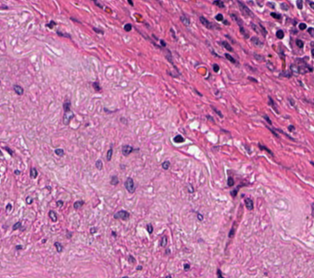nucleus: (230, 13, 248, 37), (238, 1, 251, 15), (199, 16, 214, 28), (124, 177, 135, 192), (268, 96, 278, 112), (258, 144, 272, 155), (114, 210, 129, 220), (63, 112, 74, 124), (211, 106, 222, 117), (122, 144, 133, 155), (231, 184, 241, 196), (56, 30, 70, 38), (225, 53, 236, 63), (63, 99, 71, 112), (13, 84, 23, 94), (180, 14, 189, 25), (221, 41, 232, 50), (48, 210, 57, 221), (106, 145, 112, 160), (251, 37, 262, 45), (244, 198, 252, 209), (2, 146, 12, 154), (54, 148, 64, 156), (110, 175, 118, 185), (73, 200, 83, 208), (30, 167, 37, 178), (94, 0, 103, 8), (123, 23, 132, 31), (251, 23, 259, 32), (259, 23, 265, 35), (92, 81, 100, 90), (173, 135, 183, 142), (95, 159, 102, 169), (213, 1, 224, 7), (92, 27, 103, 33), (161, 161, 169, 169), (12, 222, 20, 230), (271, 12, 280, 19), (46, 21, 55, 28), (146, 223, 152, 233), (228, 227, 234, 237), (160, 236, 166, 246), (276, 30, 283, 38), (264, 116, 271, 124), (227, 177, 233, 186), (170, 29, 175, 39), (215, 13, 222, 20), (196, 212, 202, 220), (71, 17, 79, 22), (188, 184, 193, 192), (6, 203, 11, 211), (207, 115, 213, 121), (26, 197, 32, 203), (56, 200, 62, 206), (90, 227, 96, 233), (267, 2, 274, 7), (213, 64, 218, 71), (127, 0, 133, 5), (160, 40, 165, 46), (249, 77, 256, 81), (66, 232, 71, 237), (223, 20, 228, 24), (1, 5, 7, 8), (112, 232, 116, 236), (257, 1, 262, 4), (14, 170, 19, 173)
